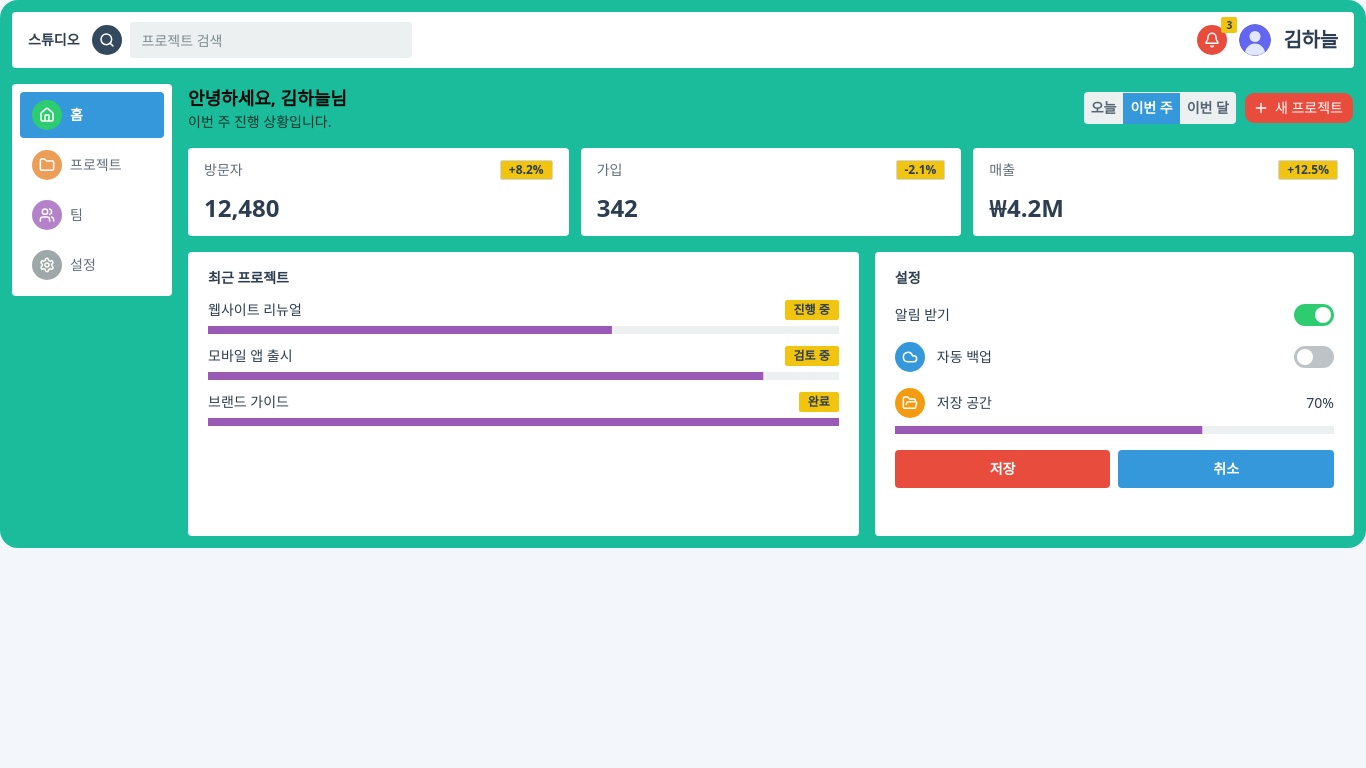
things to try on the dashboard (D-019) › confirms when settings are saved and restores them on cancel
The image size is (1366, 768).
Click the switch named "자동 백업" in the row of "자동 백업".
click(1314, 357)  # box 1294,346 -> 1334,368
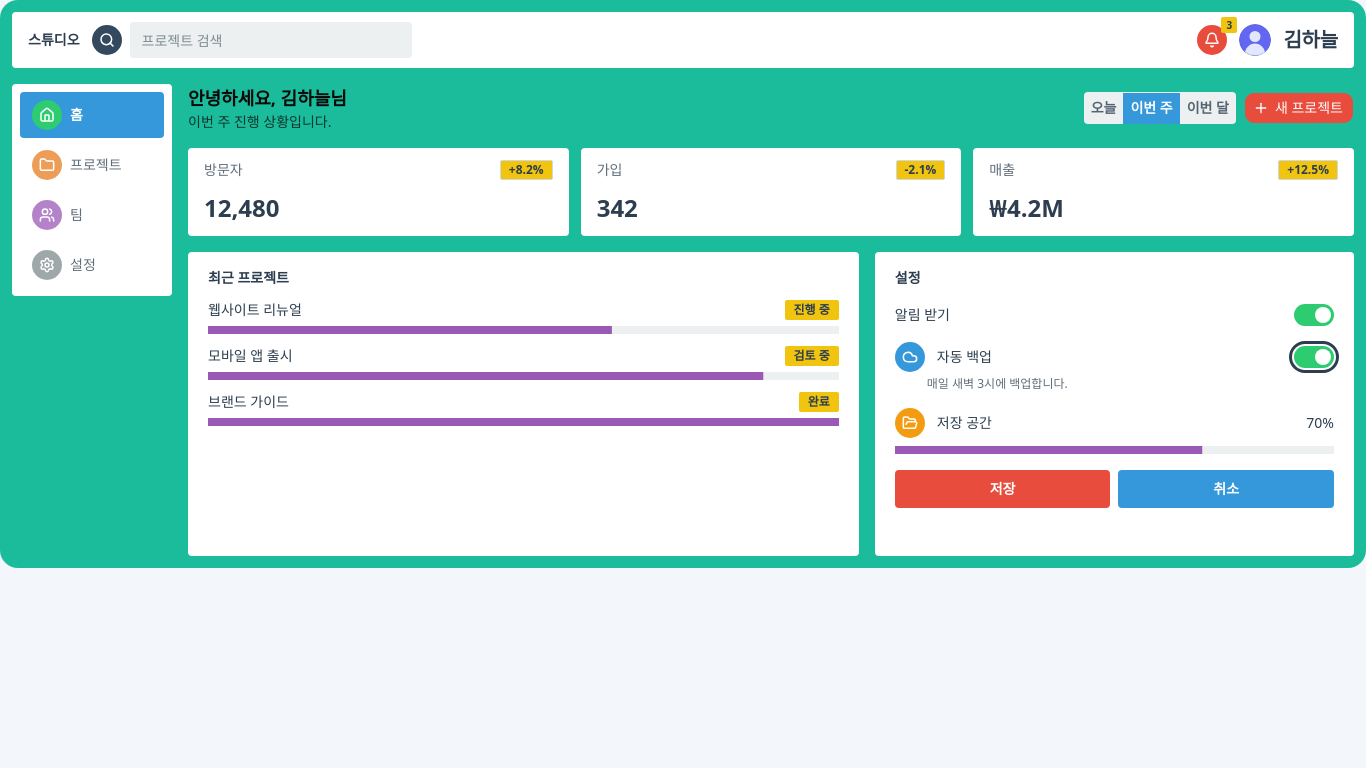
Expected: the text "매일 새벽 3시에 백업합니다." is shown, 927,375 -> 1068,392
Click the button "취소".
click(1226, 489)  # box 1118,470 -> 1334,508
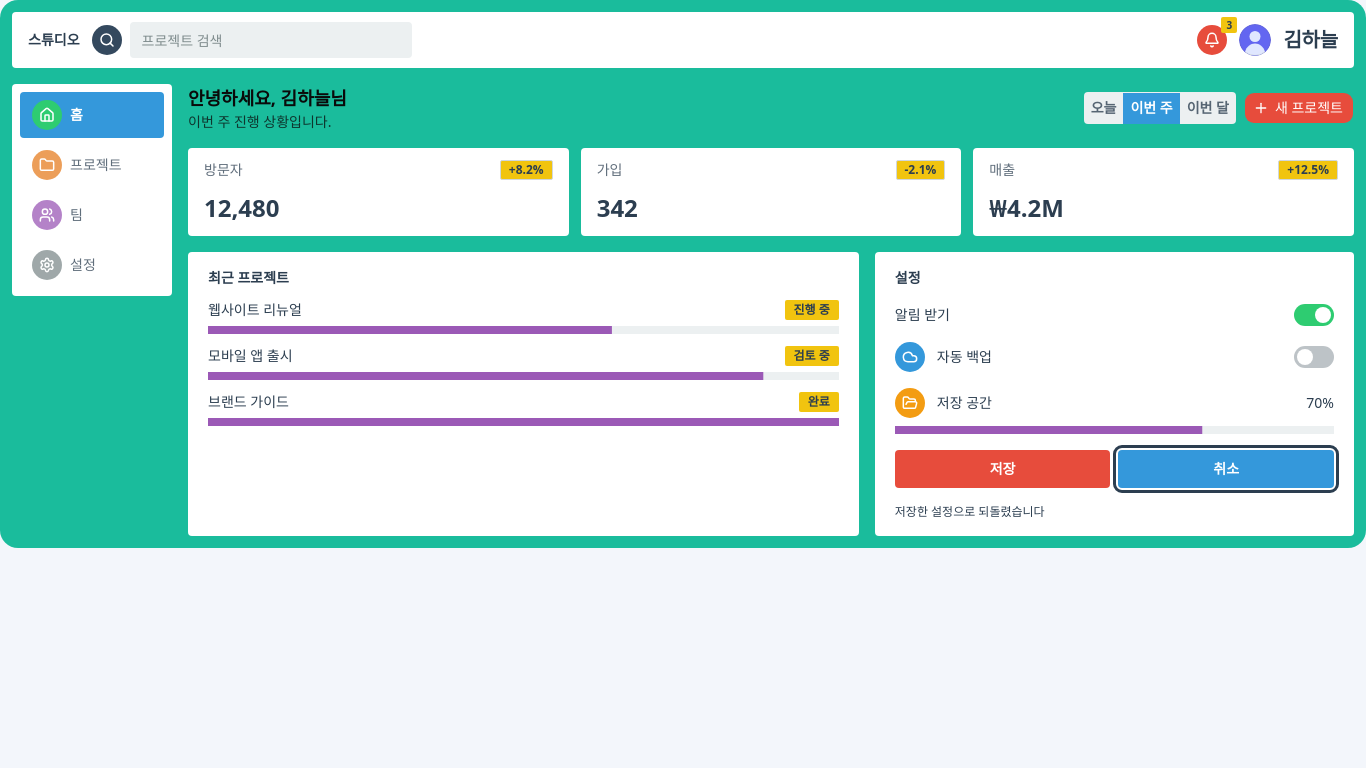
Expected: the switch named "자동 백업" in the row of "자동 백업" is not checked
Click the switch named "자동 백업" in the row of "자동 백업".
click(1314, 357)  # box 1294,346 -> 1334,368
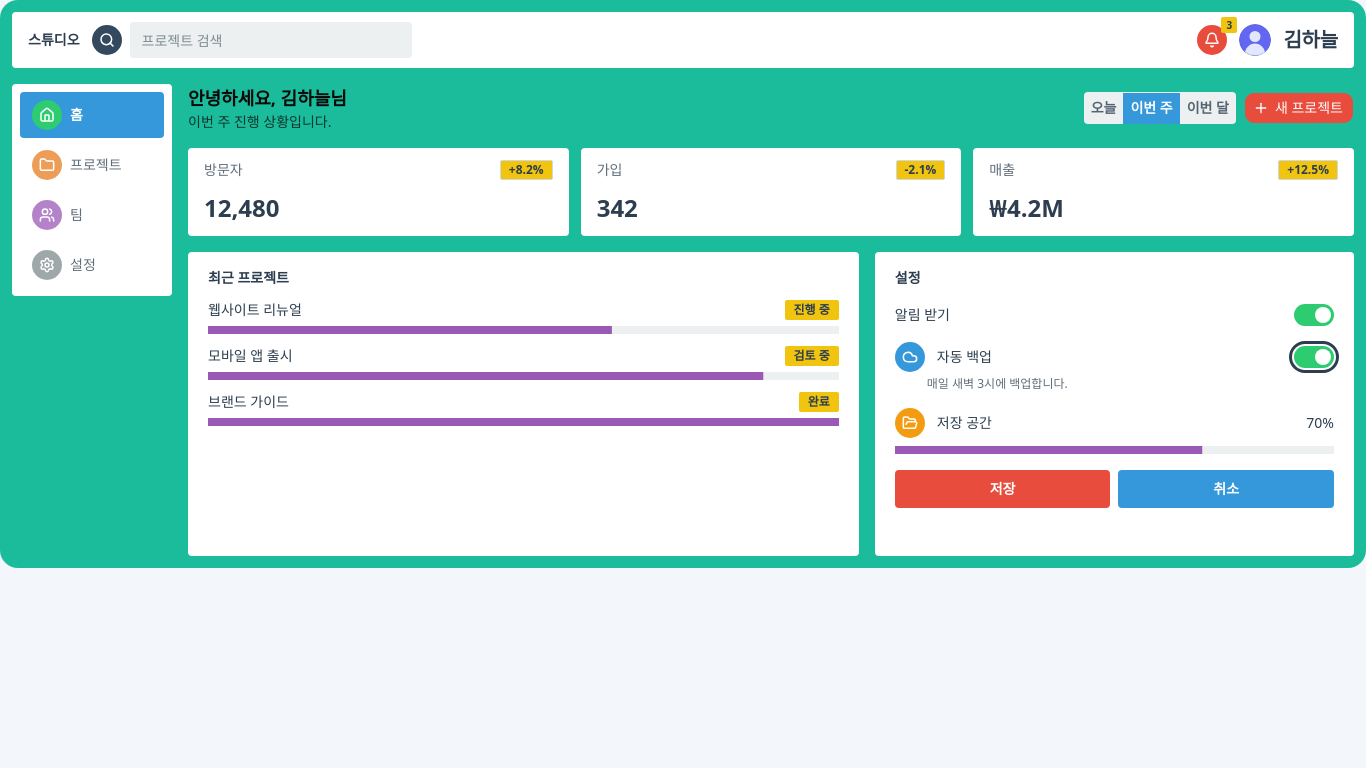
Click the button "저장".
click(1003, 489)  # box 895,470 -> 1110,508
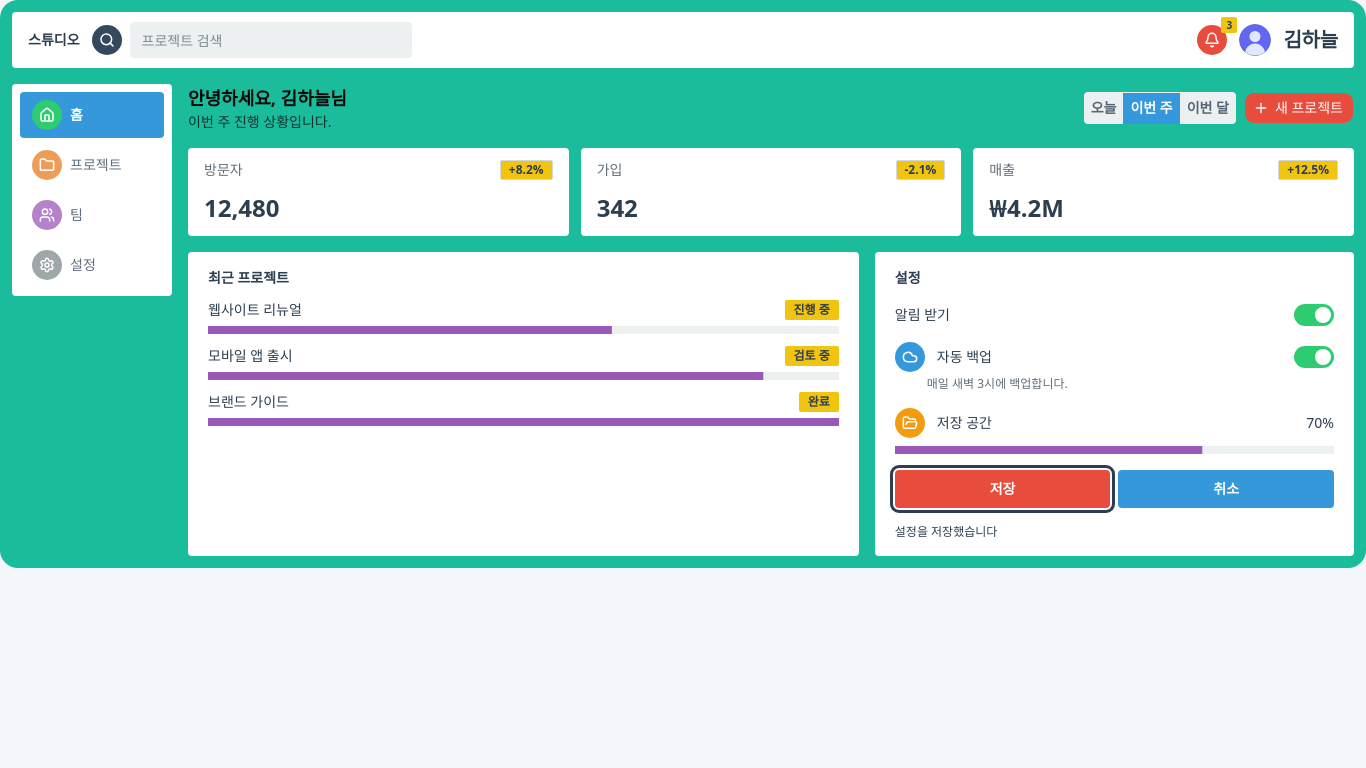
Expected: the message reads "설정을 저장했습니다", 895,523 -> 997,540
